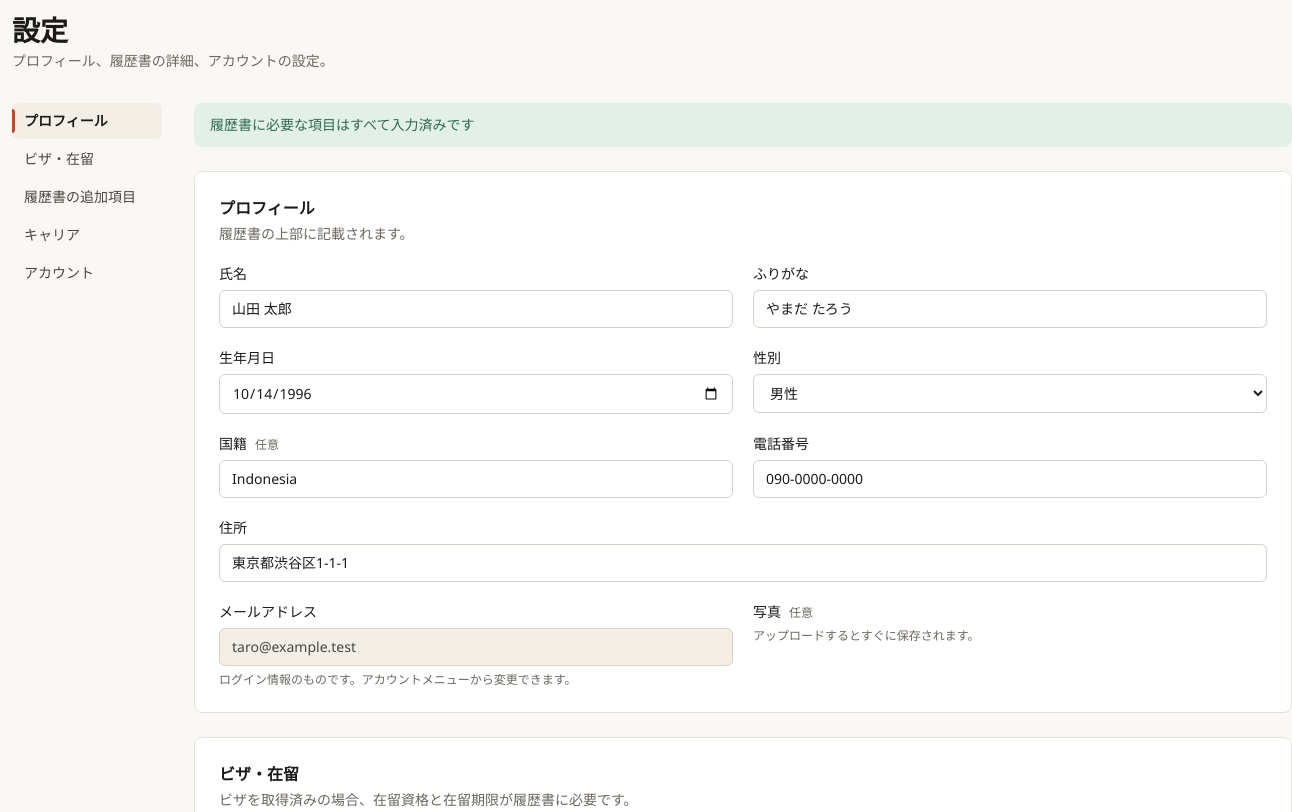
Test case: settings page, the save bar › puts everything back on Discard
Replace the text in the field labelled "電話番号" with "080". click: (1010, 479)
box: [753, 460, 1267, 498]
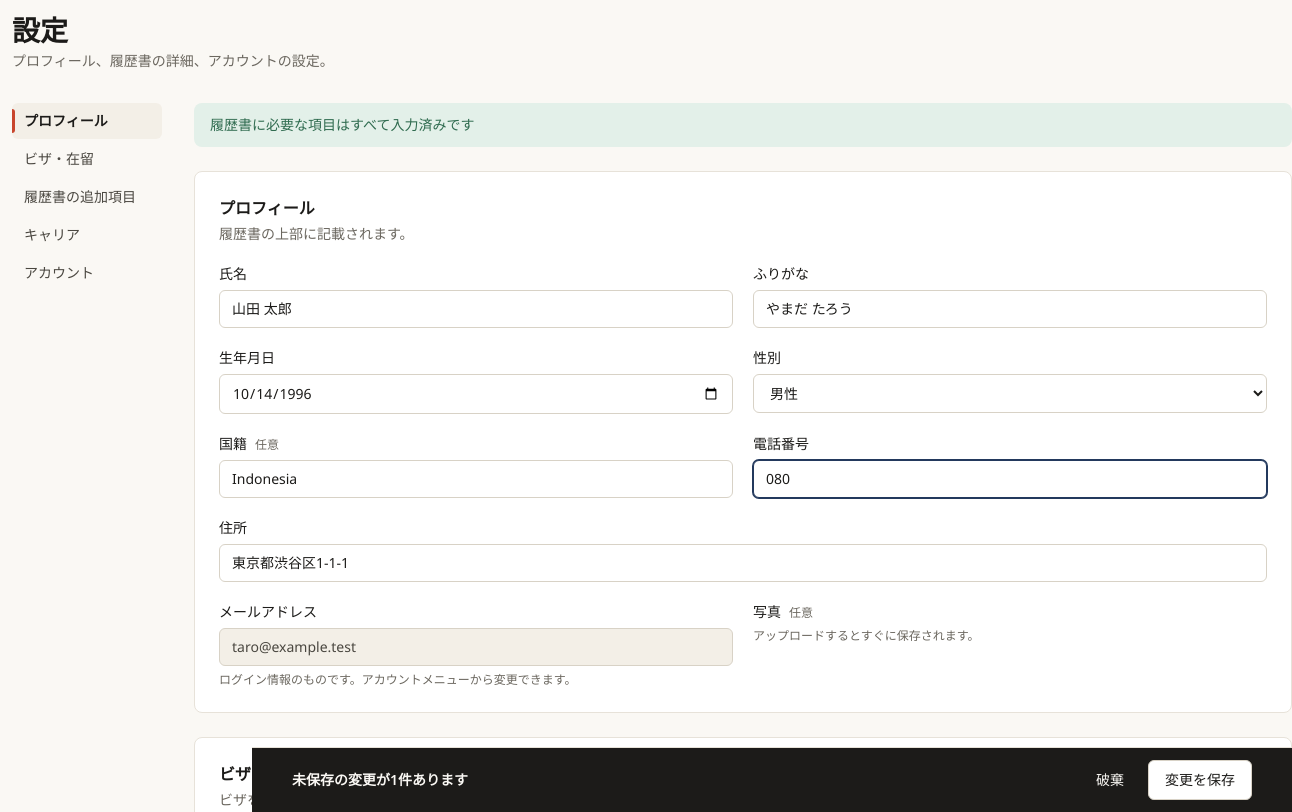
Click the button "破棄". click: click(1110, 780)
box: [1080, 760, 1140, 800]
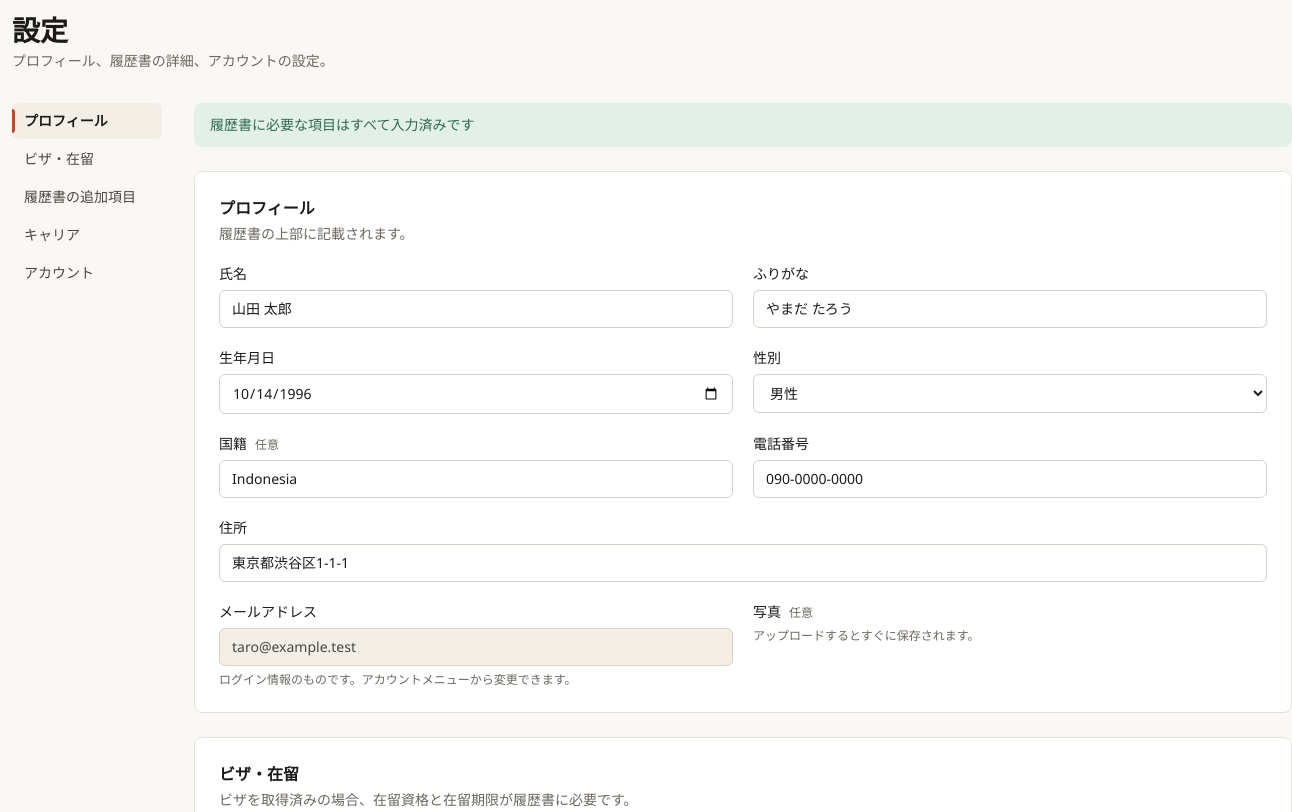
Check: the field labelled "電話番号" holds "090-0000-0000", box [753, 460, 1267, 498]
Check: the text "未保存の変更が1件あります" is gone
